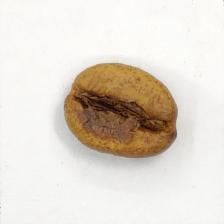NG: (74, 81, 166, 145)
